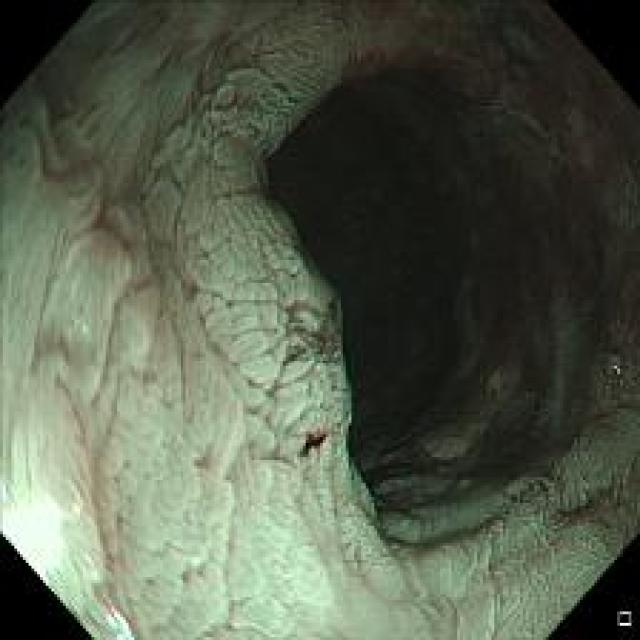blood: (294, 428, 331, 469)
blur: (175, 401, 632, 630), (8, 265, 231, 636)
bubbles: (601, 345, 629, 388)
color misalignment: (610, 360, 625, 378)
contrast: (272, 69, 512, 484)
saturation: (6, 489, 68, 575)
specularity: (102, 606, 135, 635)
